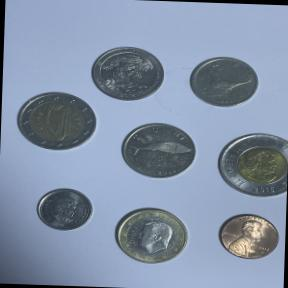coin: (210, 125, 288, 204), (108, 204, 197, 270), (116, 116, 201, 184), (14, 89, 98, 156), (86, 42, 170, 104), (212, 208, 284, 264), (32, 184, 97, 236)
